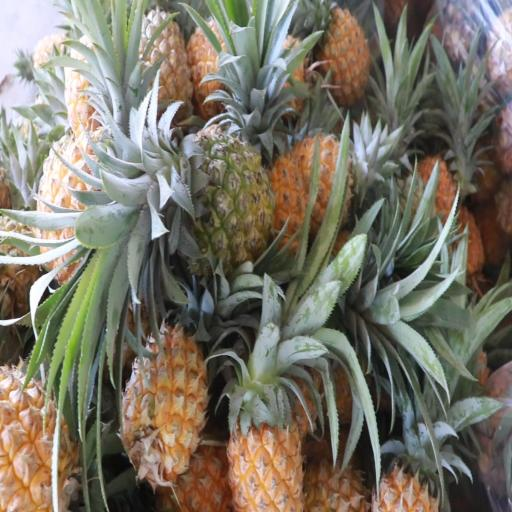Pineapple - v8 v1: (32, 128, 151, 284), (224, 328, 306, 512), (120, 316, 206, 490), (311, 7, 379, 110)
